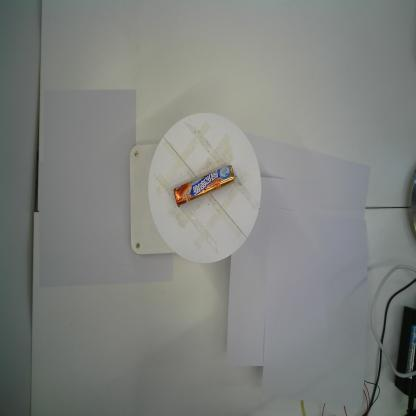Candy: (172, 162, 235, 207)
